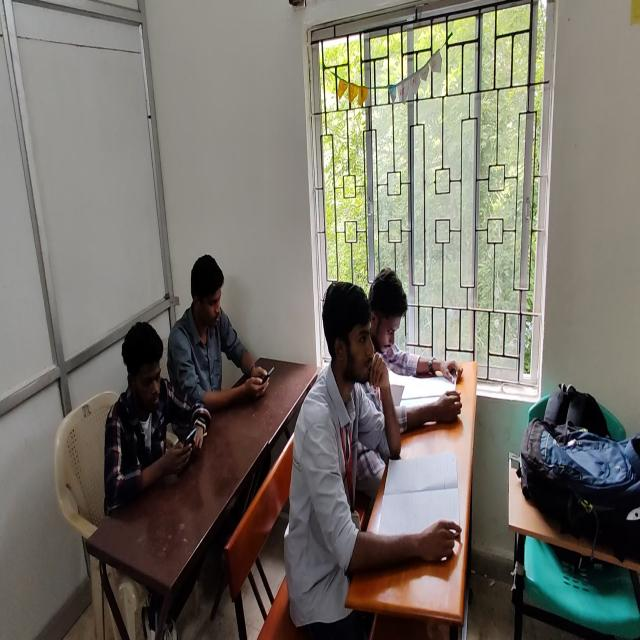reading: (302, 276, 454, 638), (367, 266, 457, 388)
using_mobile: (104, 321, 213, 518), (167, 253, 269, 444)
